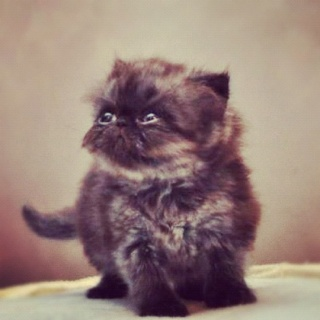Cat: (21, 51, 268, 316)
